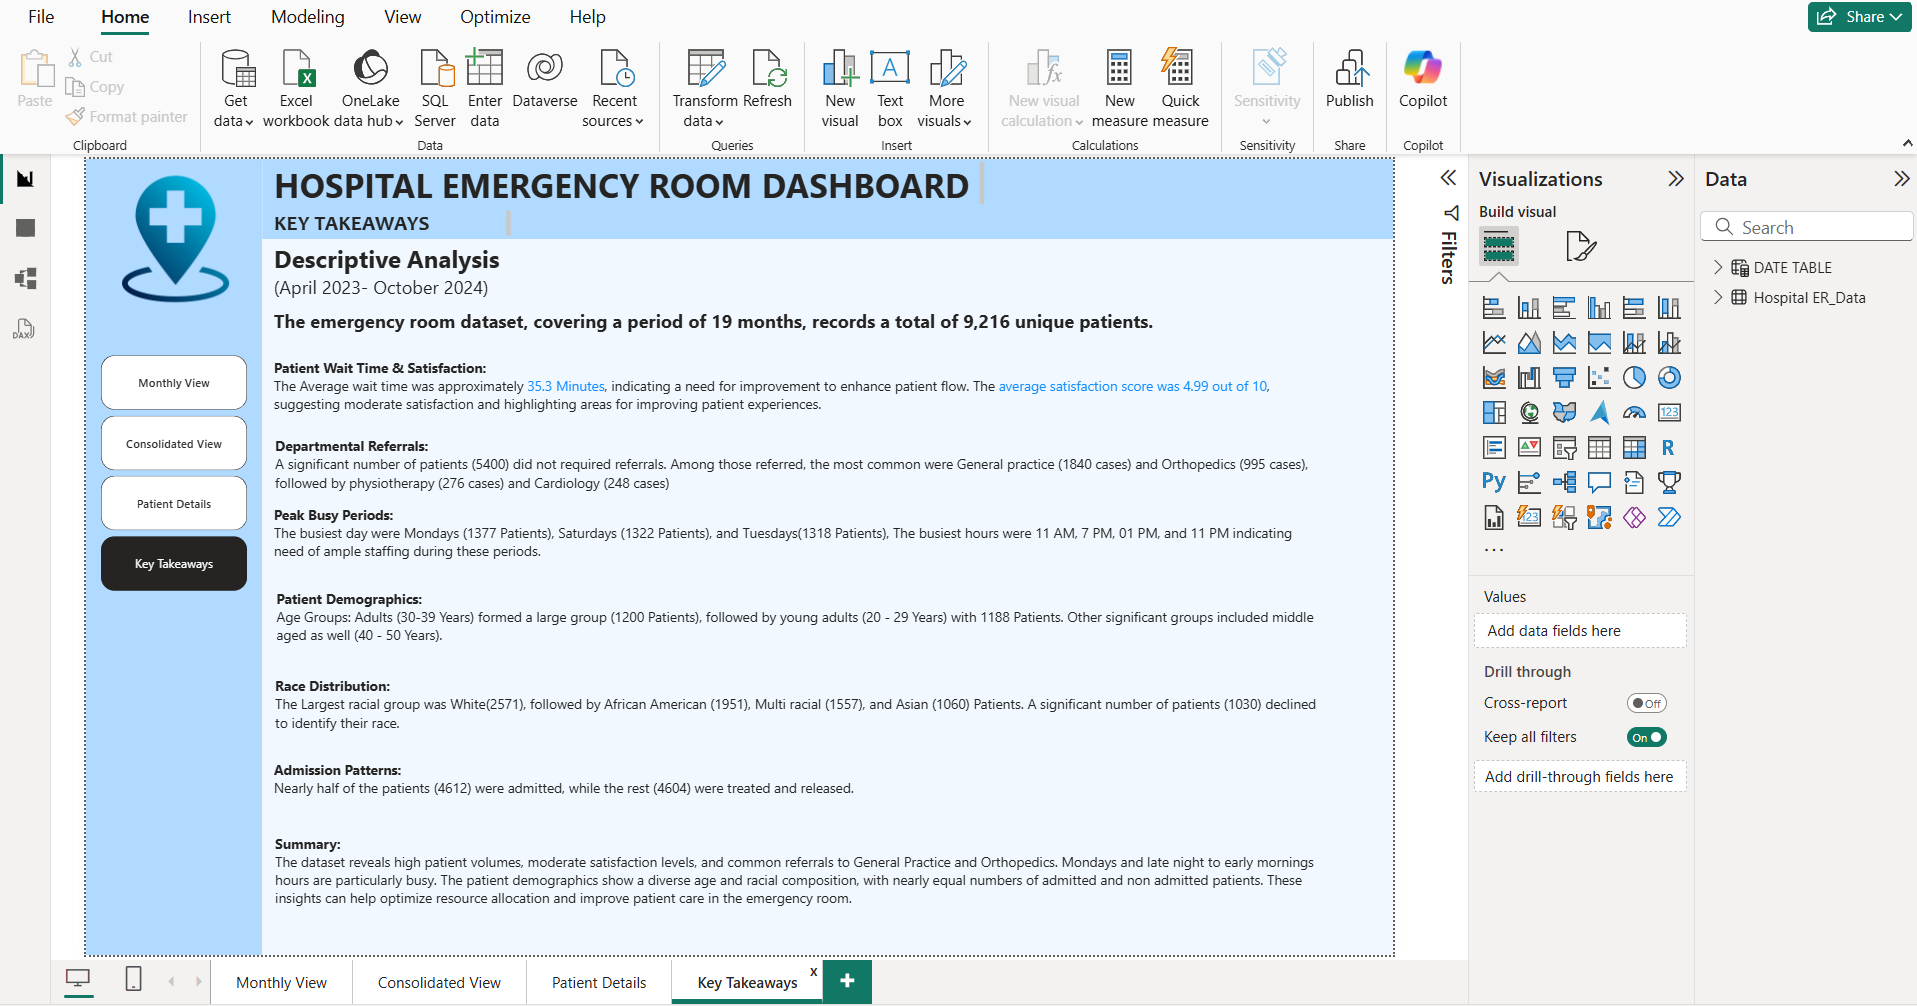

The page's visual inventory and layout, read from the dashboard file:
{"tool":"powerbi","page":{"name":"Key Takeaways","canvas":[2300,1400],"ordinal":3},"visuals":[{"type":"shape","box":[0,0,310,1400.4],"z":0},{"type":"shape","box":[310,0,1989.6,140.7],"z":1000},{"type":"textbox","box":[325.4,0,1259.7,85.7],"z":2000},{"type":"textbox","box":[325.4,85.7,426.5,55],"z":3000},{"type":"image","box":[39.6,24.2,235.2,233],"z":4000},{"type":"textbox","box":[325.4,141.3,951.4,116.7],"z":5000},{"type":"textbox","box":[325.4,258,1863.4,57.5],"z":6000},{"type":"textbox","box":[325.4,345.1,1947.2,120],"z":7000},{"type":"textbox","box":[327.6,483.7,1947.9,120.9],"z":8000},{"type":"textbox","box":[325.4,604.6,1919.3,114.3],"z":9000},{"type":"textbox","box":[329.8,751.9,1919.3,109.9],"z":9001},{"type":"textbox","box":[327.6,905.8,1919.3,109.9],"z":9002},{"type":"textbox","box":[325.4,1053.1,1783,96.7],"z":9003},{"type":"textbox","box":[327.6,1182.8,1919.3,158.3],"z":9004},{"type":"pageNavigator","box":[26.4,345.2,257.2,415.5],"z":9005}]}

Visuals, with their boxes on the page's 2300x1400 design canvas (x1, y1, x2, y2). These are canvas units, not pixel positions in the 1917x1006 screenshot, which may show the page scaled, cropped or inside an application window:
shape: 0 0 310 1400
shape: 310 0 2300 141
textbox: 325 0 1585 86
textbox: 325 86 752 141
image: 40 24 275 257
textbox: 325 141 1277 258
textbox: 325 258 2189 316
textbox: 325 345 2273 465
textbox: 328 484 2276 605
textbox: 325 605 2245 719
textbox: 330 752 2249 862
textbox: 328 906 2247 1016
textbox: 325 1053 2108 1150
textbox: 328 1183 2247 1341
pageNavigator: 26 345 284 761
